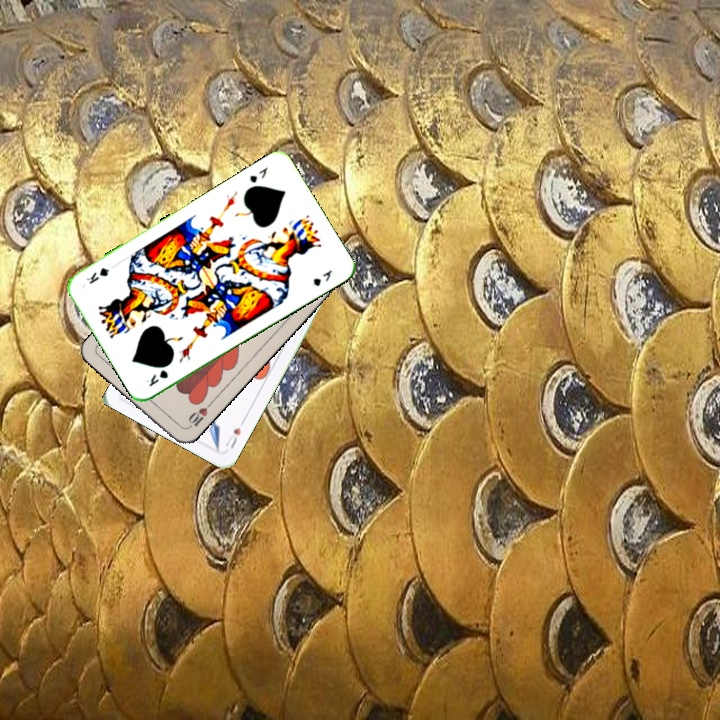GK: (142, 366, 171, 389), (246, 163, 271, 186)
H10: (182, 399, 214, 432)
HU: (221, 423, 243, 451)
